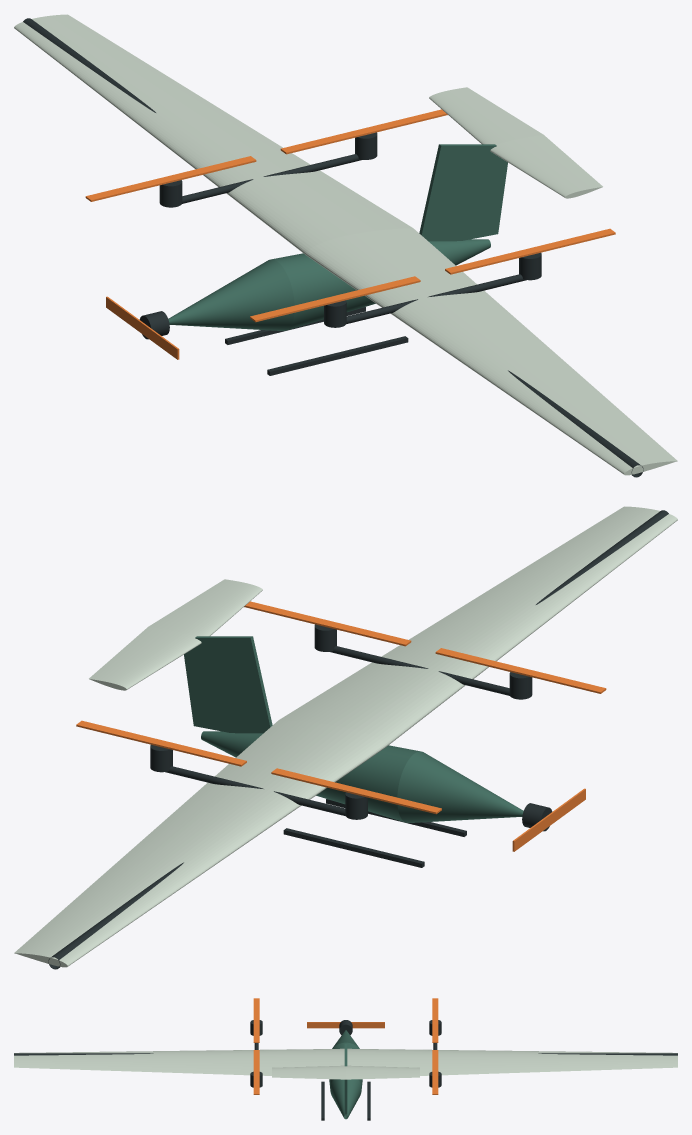
The picture shows the model from 3 angles, top to bottom: view 1: azimuth 30°, elevation 25°; view 2: azimuth 150°, elevation 25°; view 3: azimuth 270°, elevation 25°; orthographic projection. The views are drawn at different scales.
Parts seen in each view (by area): view 1: wing-1, wing1, fuselage, fin, tail-1, tail1, wing_spar, prop_-1_700.0, prop_1_220.0, prop_-1_220.0, prop_1_700.0, boom-1 (+3 smaller); view 2: wing1, wing-1, fuselage, fin, tail1, tail-1, wing_spar, prop_1_700.0, prop_-1_220.0, prop_1_220.0, prop_-1_700.0, boom1 (+3 smaller); view 3: wing-1, wing1, fuselage, tail-1, tail1, wing_spar, cruise_prop, prop_-1_220.0, prop_-1_700.0, prop_1_220.0, prop_1_700.0, fin.
Boxes of the visible parts, box(x1,y1,x2,y2) form: wing-1: box(305, 228, 677, 475); wing1: box(14, 14, 412, 254); fuselage: box(168, 239, 490, 330); fin: box(419, 144, 507, 241); tail-1: box(490, 134, 602, 198); tail1: box(429, 87, 543, 144); wing_spar: box(23, 18, 643, 477); prop_-1_700.0: box(445, 228, 615, 274); prop_1_220.0: box(85, 156, 256, 201); prop_-1_220.0: box(250, 276, 420, 322); prop_1_700.0: box(280, 109, 447, 154); boom-1: box(346, 274, 526, 323); wing1: box(14, 720, 386, 967); wing-1: box(279, 506, 677, 746); fuselage: box(201, 731, 523, 822); fin: box(184, 636, 272, 733); tail1: box(89, 626, 201, 690); tail-1: box(148, 579, 262, 636); wing_spar: box(48, 510, 668, 969); prop_1_700.0: box(76, 720, 246, 766); prop_-1_220.0: box(435, 648, 606, 693); prop_1_220.0: box(271, 768, 441, 814); prop_-1_700.0: box(244, 601, 411, 646); boom1: box(165, 766, 345, 815); wing-1: box(14, 1048, 344, 1075); wing1: box(347, 1048, 677, 1075); fuselage: box(329, 1030, 362, 1119); tail-1: box(272, 1065, 345, 1079); tail1: box(346, 1065, 419, 1079); wing_spar: box(14, 1053, 677, 1055); cruise_prop: box(307, 1022, 384, 1028); prop_-1_220.0: box(253, 998, 259, 1042); prop_-1_700.0: box(253, 1050, 259, 1094); prop_1_220.0: box(432, 998, 438, 1042); prop_1_700.0: box(432, 1050, 438, 1094); fin: box(344, 1044, 347, 1114).
Bounding box in the file's own units: 989 × 394 × 2600.
